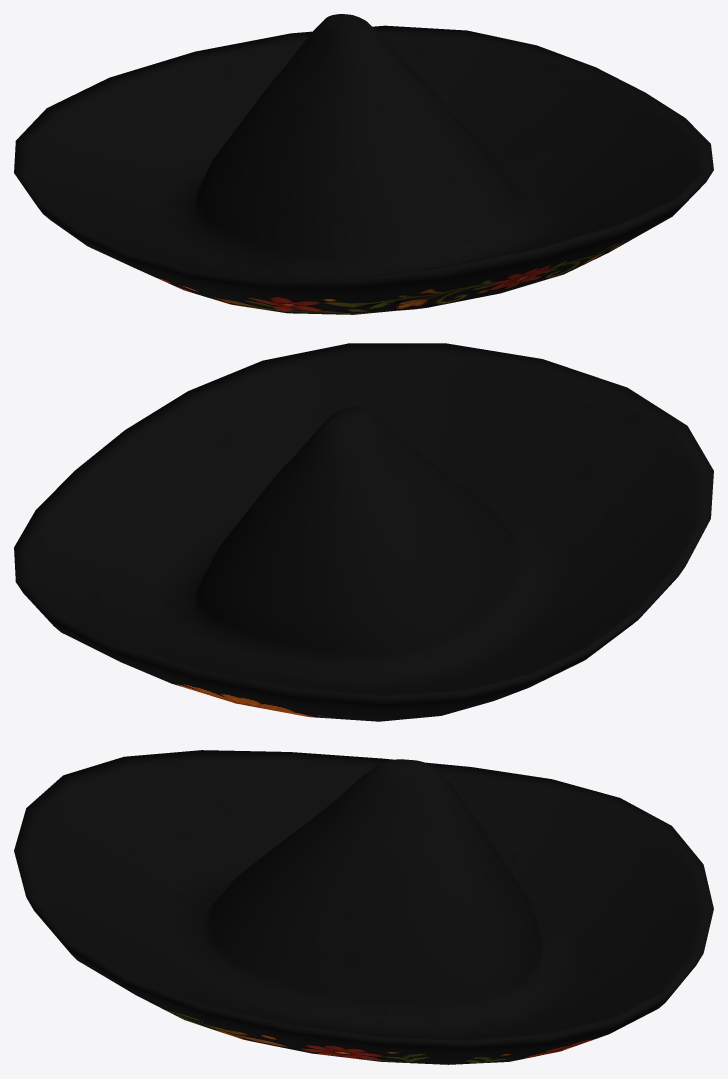
File: Sombrero.glb
The picture shows the model from 3 angles, top to bottom: view 1: azimuth 30°, elevation 25°; view 2: azimuth 150°, elevation 25°; view 3: azimuth 270°, elevation 25°; orthographic projection.
Visible parts, largest first — view 1: Sombrero; view 2: Sombrero; view 3: Sombrero.
Boxes of the visible parts, box(x1,y1,x2,y2) form: Sombrero: box(14, 14, 713, 314); Sombrero: box(14, 343, 713, 721); Sombrero: box(14, 750, 713, 1064).
Size of the model in its own units: 0.5096 by 0.1936 by 0.538.
1 material, 1 textured.
